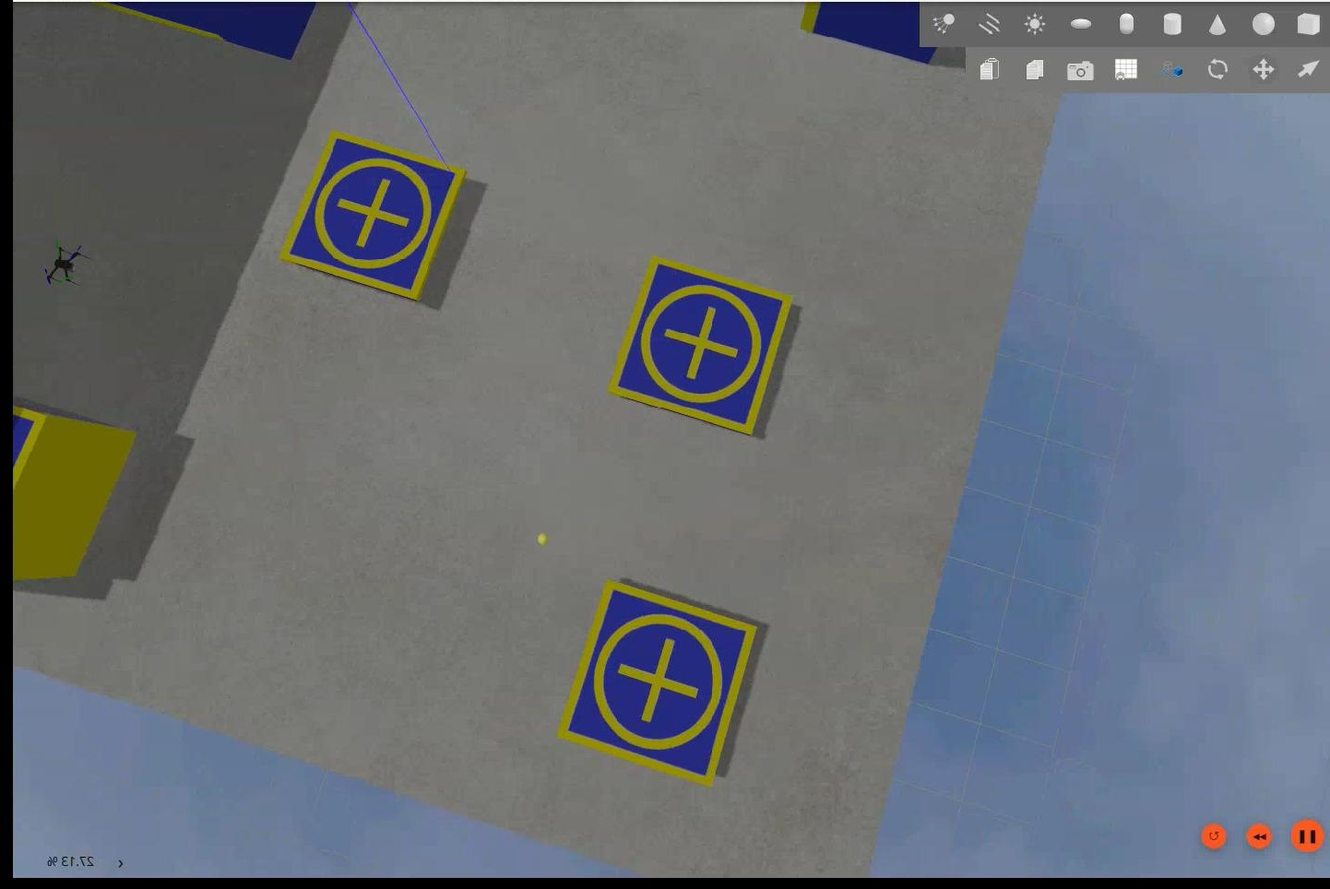small_base: (555, 583, 761, 782), (600, 260, 792, 433), (277, 138, 460, 299)
